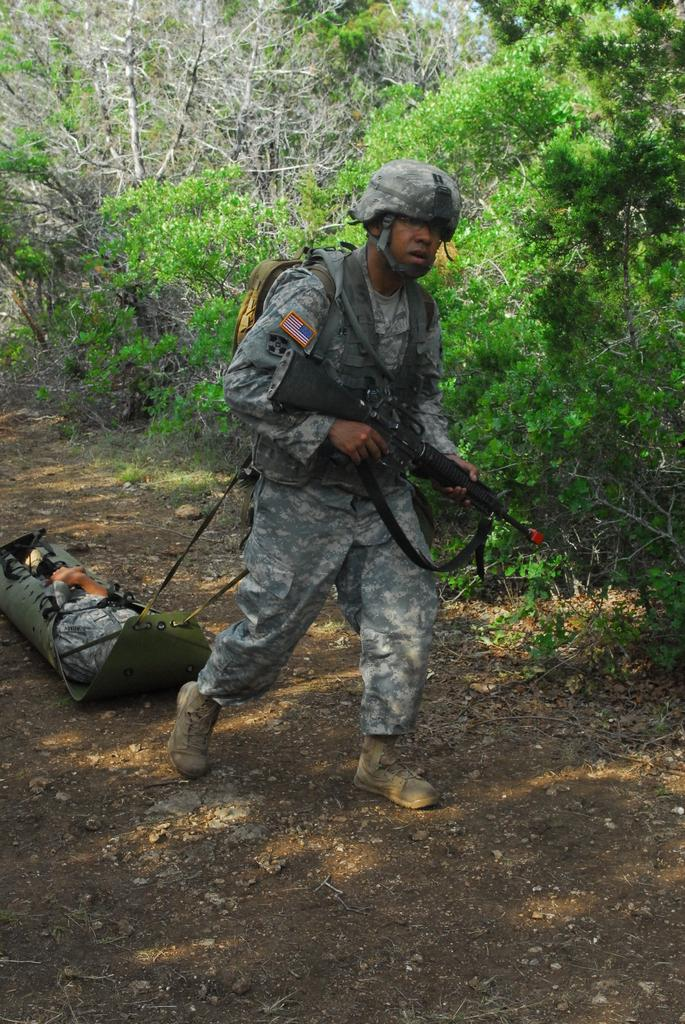Shotgun: (262, 355, 547, 552)
